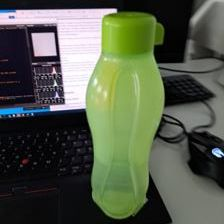bottle: (82, 7, 171, 220)
